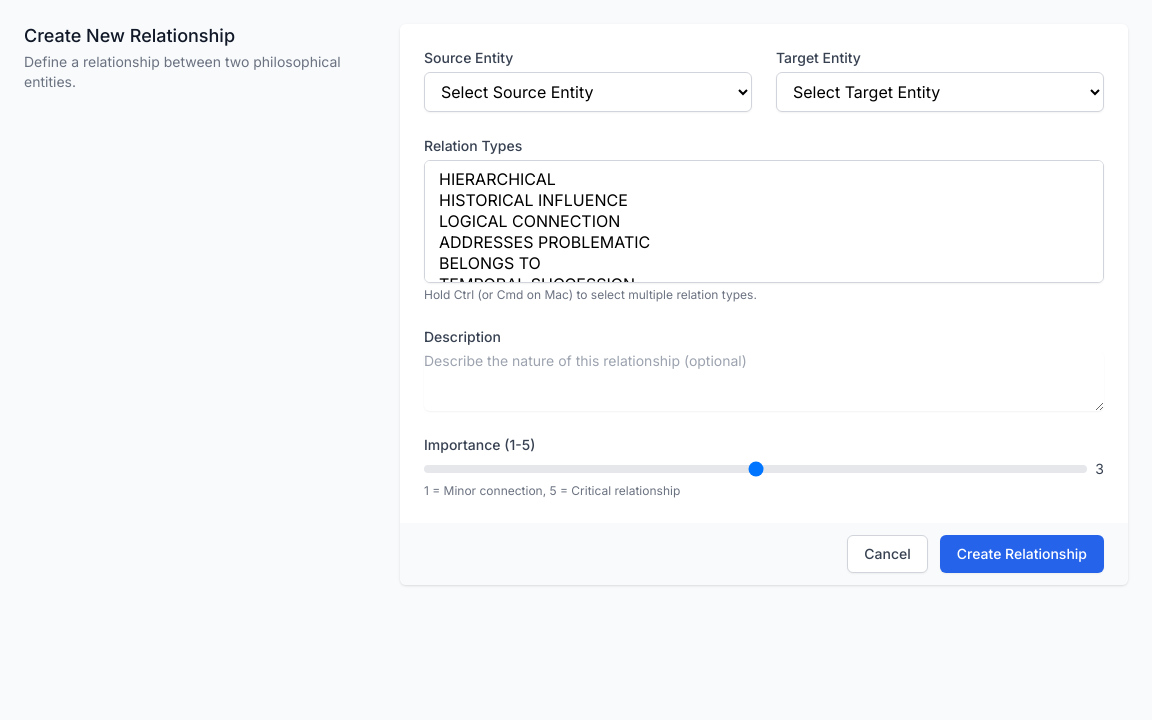
Test: RelationshipForm Component › Form Submission › successfully submits new relationship data
Expected: the form named "Create Relationship Form" is shown, [400,24,1128,585]
// Fill all required fields
Select "Immanuel Kant (Philosopher)" in the dropdown with test id "source-entity-select" at [588, 92], box [424,72,752,112]
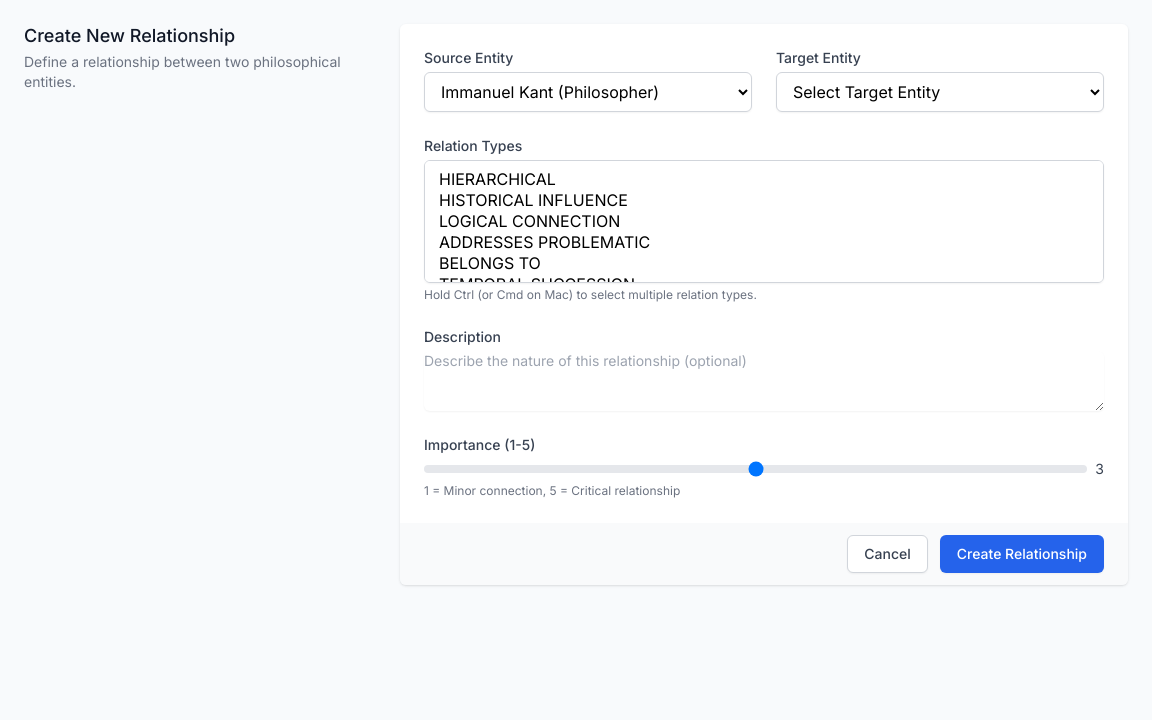
Select "Categorical Imperative (PhilosophicalConcept)" in the dropdown with test id "target-entity-select" at [940, 92], box [776,72,1104,112]
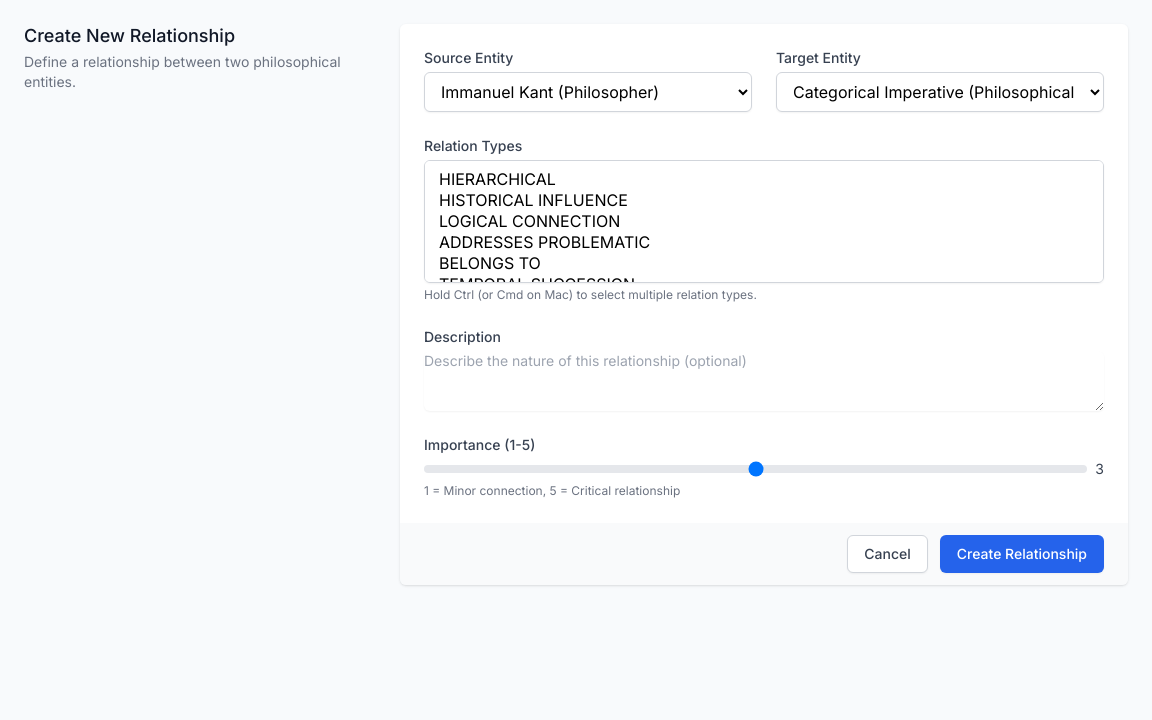
Select "DEVELOPMENT" in the dropdown with test id "relation-types-select" at [764, 222], box [424,160,1104,283]
// Fill description
Type "Test description" into the text box with test id "description-input".
click(764, 381); type("Test description")  # box [424,351,1104,411]
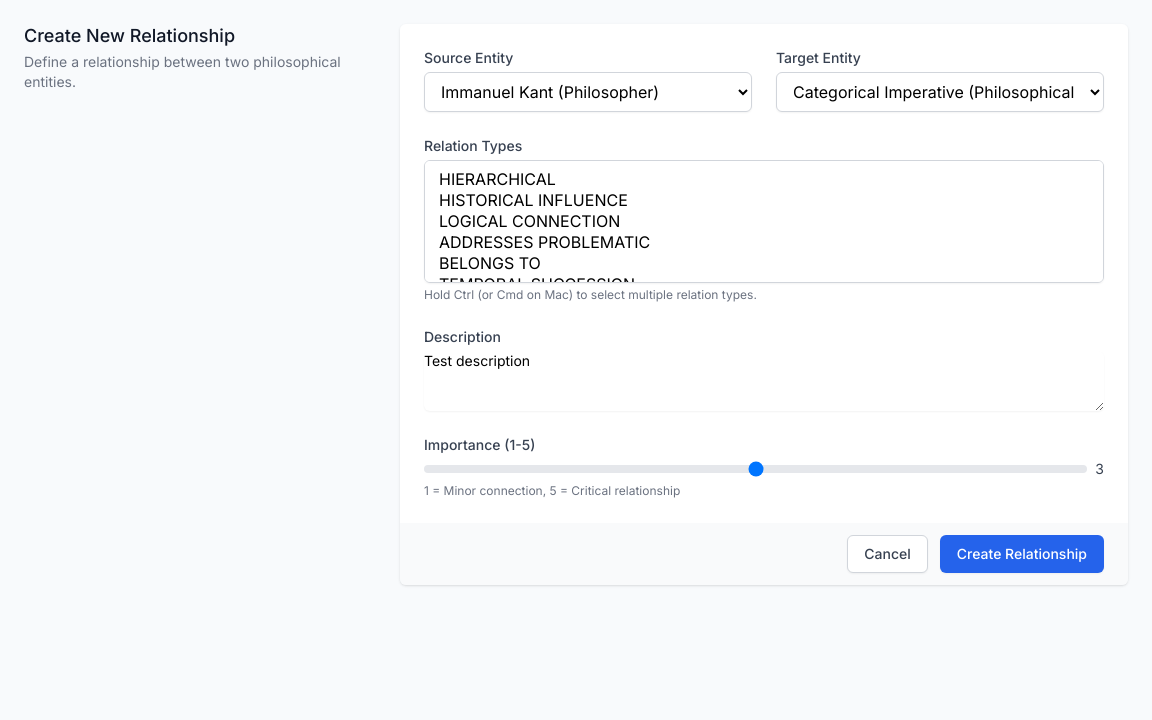
// Submit form
Click the button with test id "submit-button".
click(1022, 554)  # box [940,535,1104,573]
Wait 2000 ms
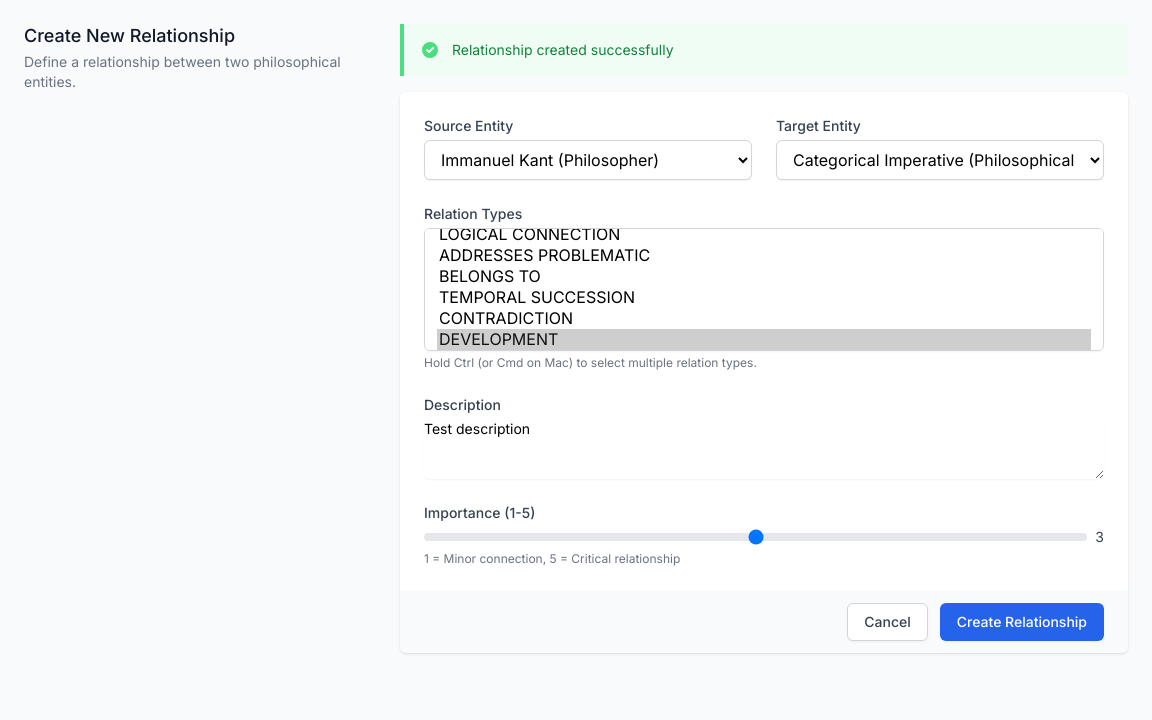
Expected: the text "Relationship created successfully" is shown, [452,40,674,60]
